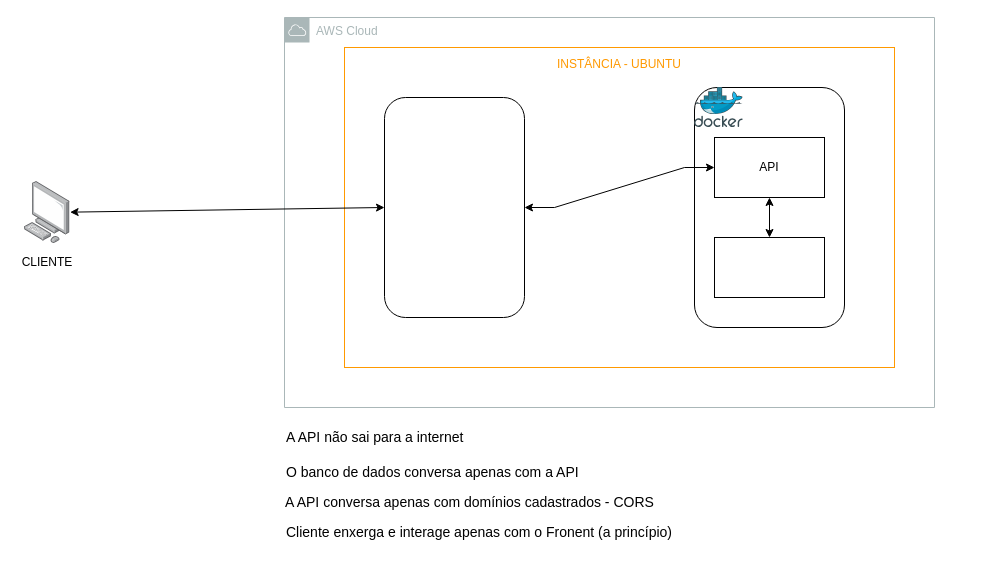
Some shapes in this 1002 by 565 pixel diagram are drawn without their labels. The shapes that lost their labels are listed below. From the top down, each one's centre as x and y in pixels, then its label:
the point at 454,207: FRONTENZO COM NGINX
the point at 769,267: DB POSTGRES
